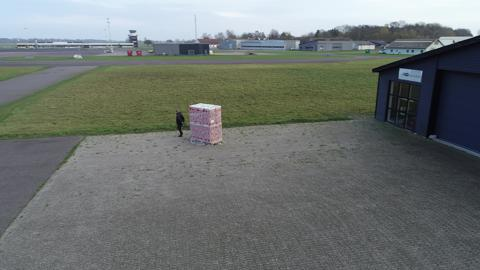RockwoolPallet: (188, 102, 224, 145)
